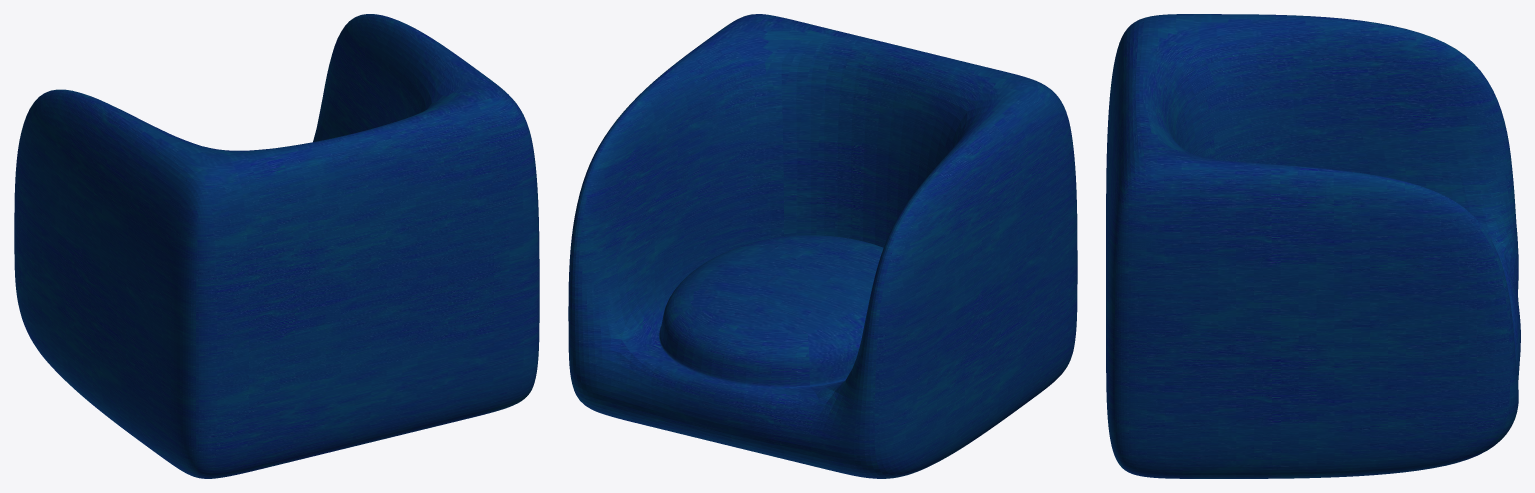
The model's file is chair.obj.
The picture shows the model from 3 angles, left to right: view 1: azimuth 30°, elevation 25°; view 2: azimuth 150°, elevation 25°; view 3: azimuth 270°, elevation 25°; orthographic projection. The views are drawn at different scales.
Visible parts, largest first — view 1: Cube_Cube.001; view 2: Cube_Cube.001; view 3: Cube_Cube.001.
Boxes of the visible parts, box(x1,y1,x2,y2) form: Cube_Cube.001: box(14, 14, 539, 478); Cube_Cube.001: box(568, 14, 1077, 478); Cube_Cube.001: box(1106, 14, 1520, 478).
Bounding box in the file's own units: 2 × 1.67 × 1.98.
